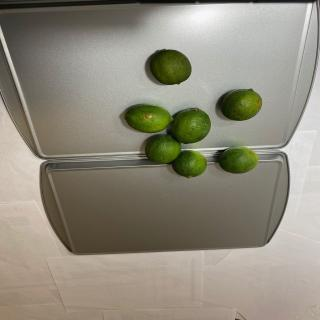Chilli: (149, 48, 192, 85)
Lemon: (124, 103, 173, 133), (172, 107, 211, 144), (220, 88, 262, 121), (144, 134, 182, 164), (218, 146, 258, 174), (172, 150, 207, 178)
